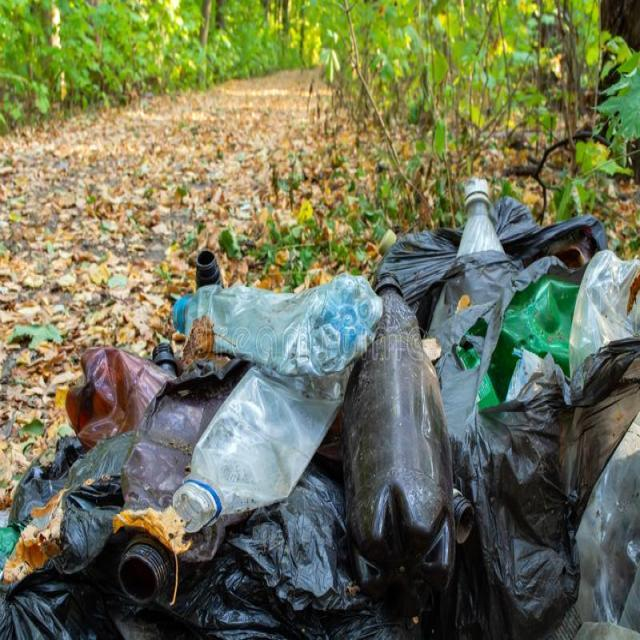Trashbag: (369, 216, 628, 622), (192, 509, 412, 640), (0, 573, 121, 625)
